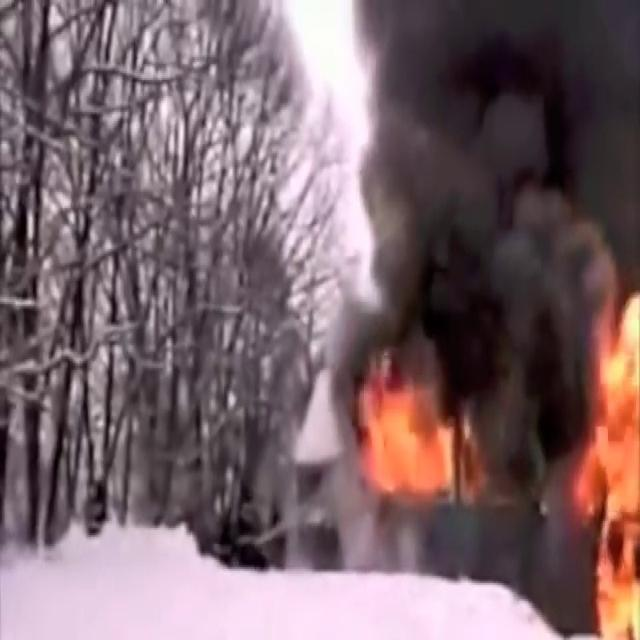Fire: (566, 262, 640, 636), (344, 346, 476, 526)
Smoke: (293, 0, 640, 411)
